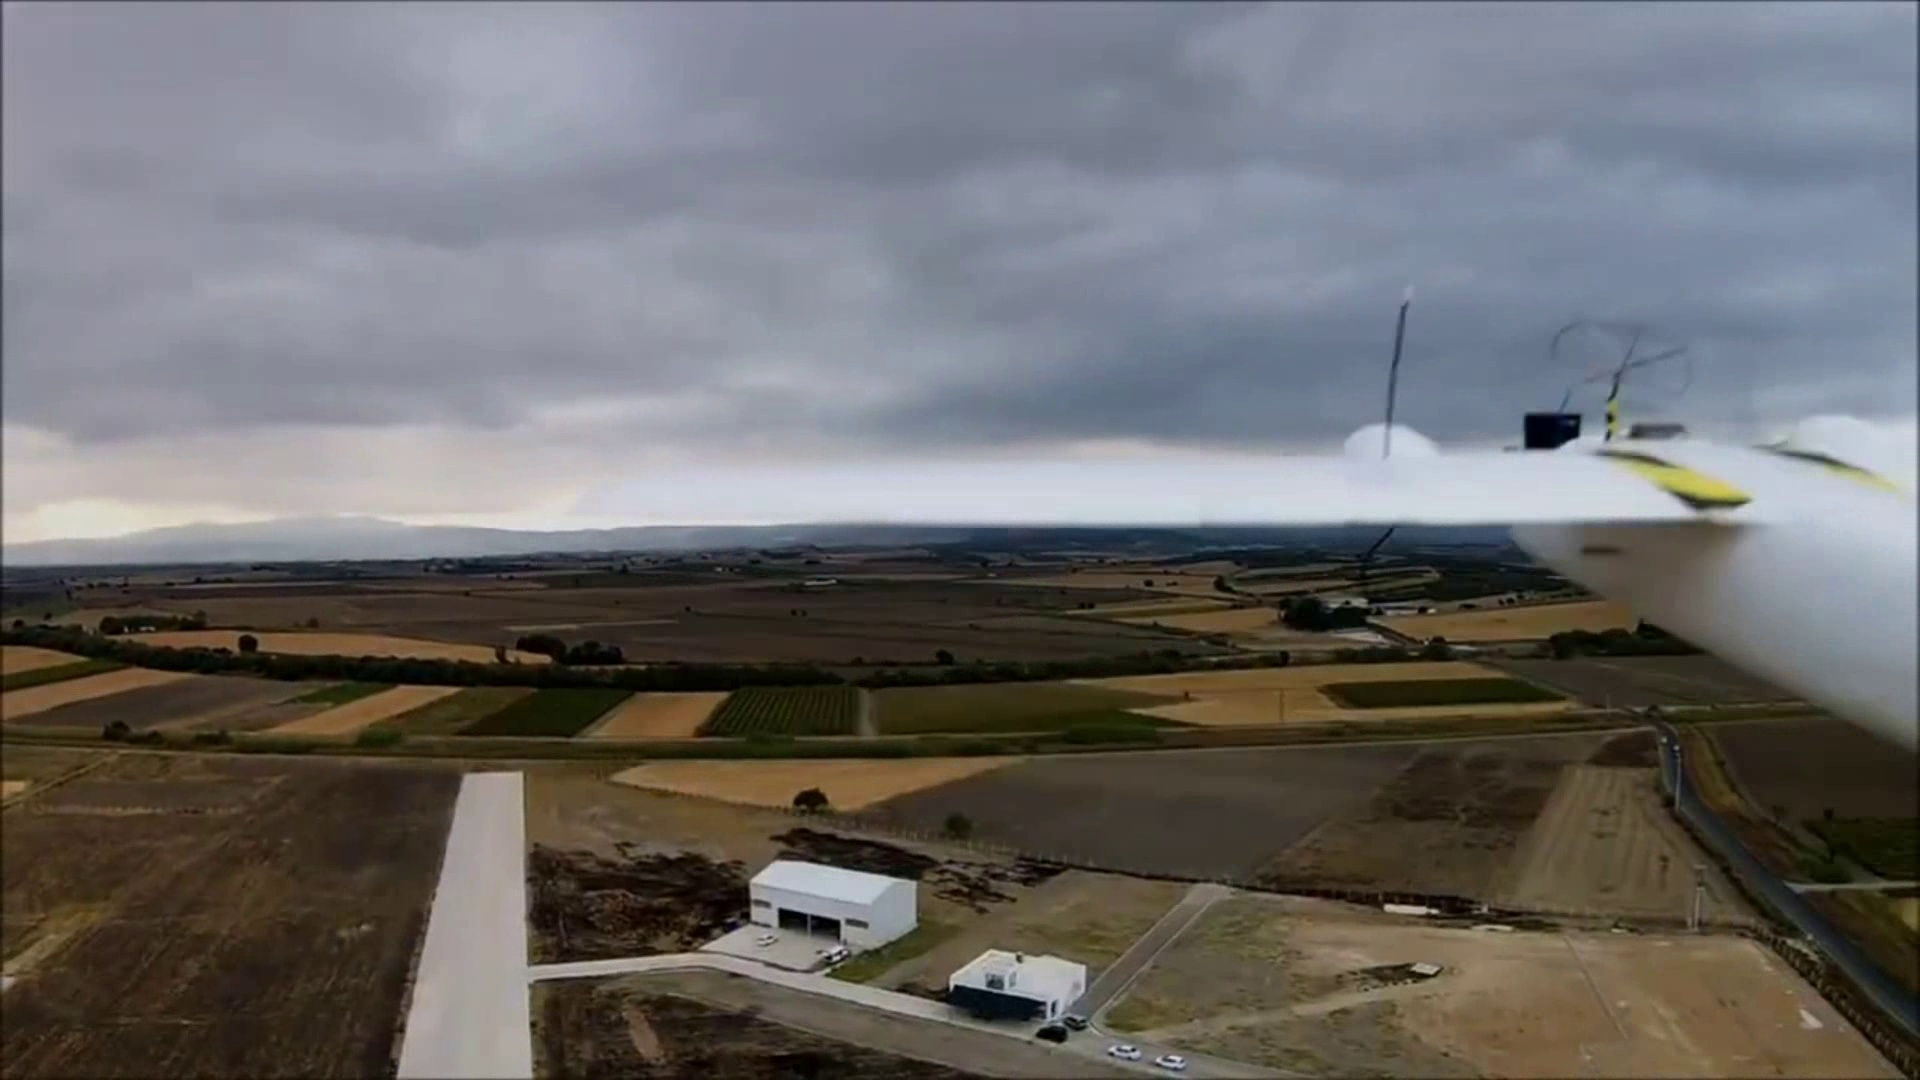airplane: (46, 290, 1751, 602)
